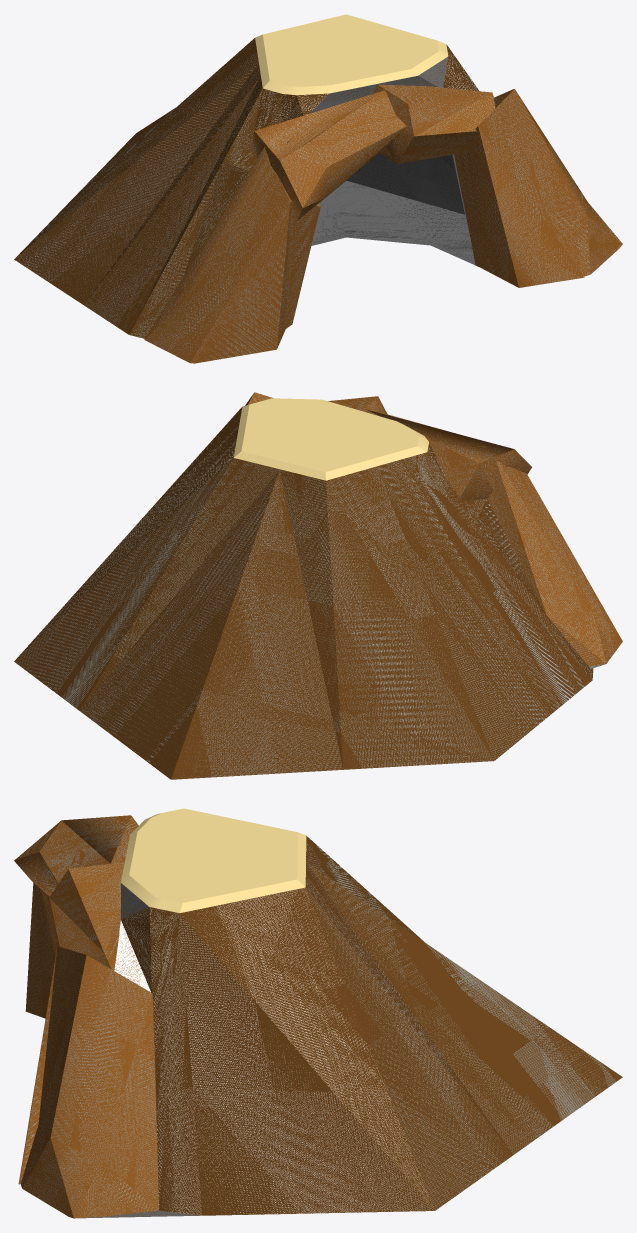
Rendered from Cave_Sand_01.fbx.
3 renders of one model, top to bottom at view 1: azimuth 30°, elevation 25°; view 2: azimuth 150°, elevation 25°; view 3: azimuth 270°, elevation 25°, orthographic. The views are drawn at different scales.
Visible parts, largest first — view 1: Model; view 2: Model; view 3: Model.
Part boxes in pixels (left/top/right/bottom): Model: left=14, top=14, right=622, bottom=363; Model: left=14, top=392, right=622, bottom=779; Model: left=14, top=808, right=622, bottom=1218.
Bounding box in the file's own units: 1284 × 532 × 1235.
